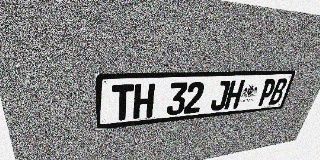2: (183, 81, 205, 114)
3: (166, 82, 188, 116)
B: (268, 78, 289, 105)
H: (133, 83, 155, 119), (224, 80, 245, 110)
J: (209, 80, 231, 111)
P: (256, 79, 277, 106)
T: (112, 84, 134, 121)
